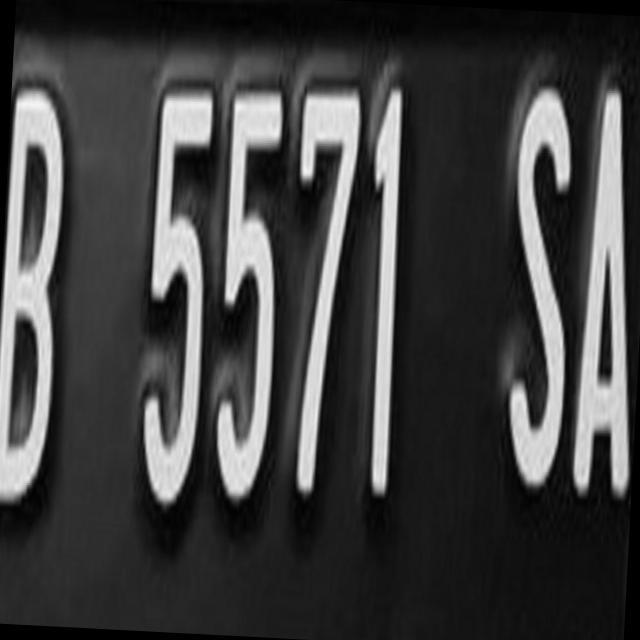1: (350, 71, 427, 506)
5: (198, 65, 300, 514), (126, 73, 222, 510)
7: (276, 67, 364, 516)
A: (568, 79, 640, 509)
B: (0, 54, 77, 524)
S: (488, 73, 592, 501)
